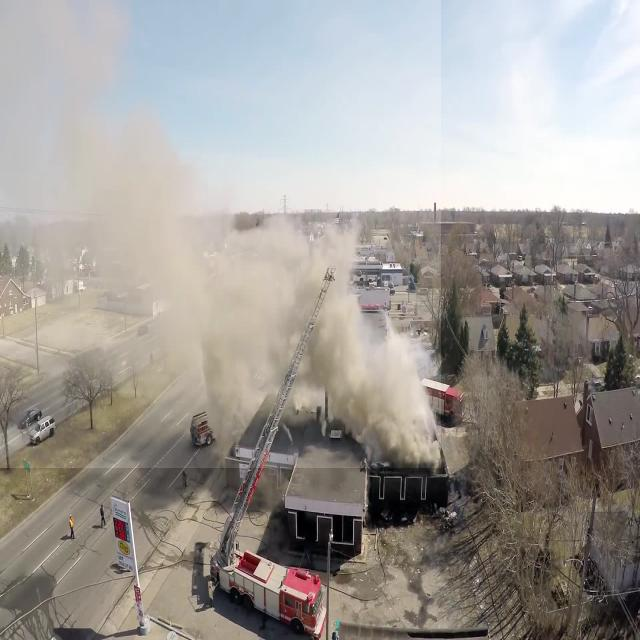Smoke: (0, 0, 441, 468)
